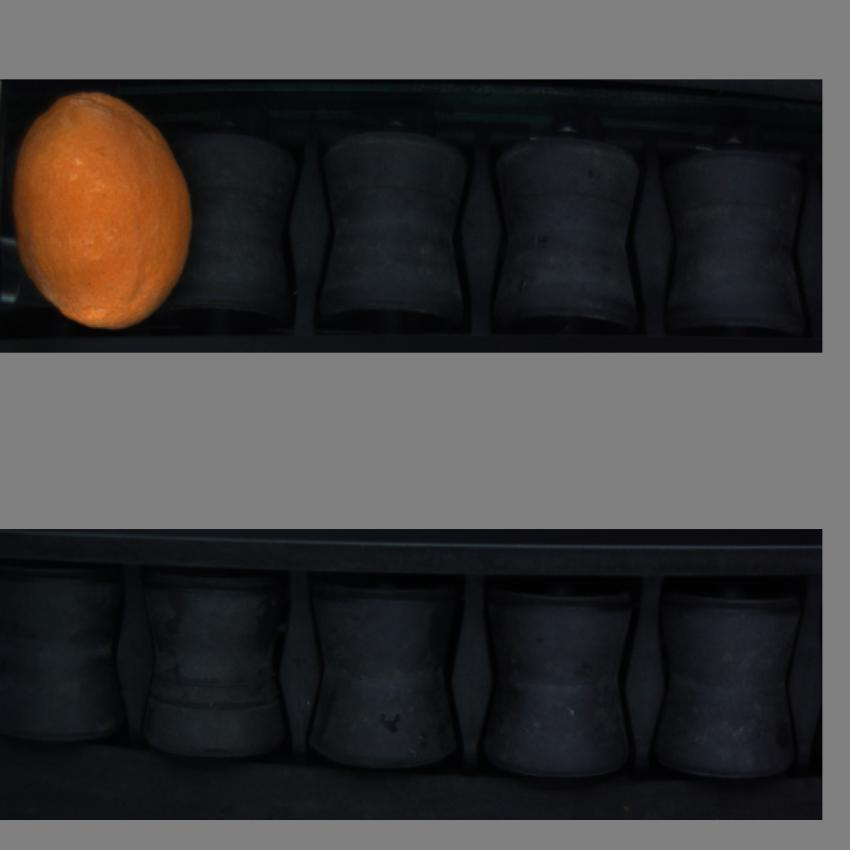Mal estado: (13, 89, 196, 330)
